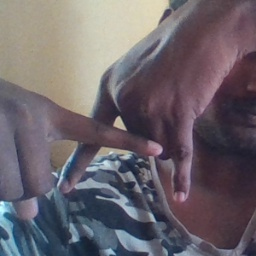H: (46, 72, 205, 215)
